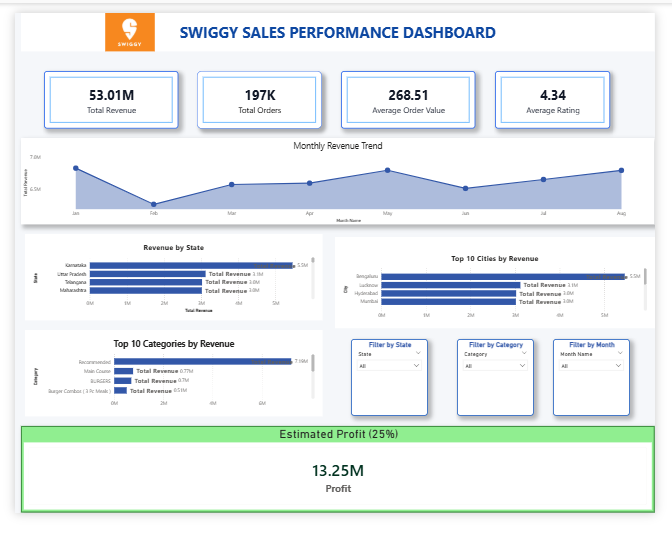

Layout of this report page (visuals, bound fields, positions):
{"tool":"powerbi","page":{"name":"Executive Dashboard","canvas":[1600,1250],"ordinal":0},"visuals":[{"type":"cardVisual","fields":{"Data":["swiggy_data.Total Orders"]},"box":[456,144,312,144],"z":0},{"type":"lineChart","title":"Monthly Revenue Trend","fields":{"Category":["swiggy_data.Month Name"],"Y":["swiggy_data.Total Revenue"]},"box":[16,312,1584,216],"z":1000},{"type":"clusteredBarChart","title":"Revenue by State","fields":{"Category":["swiggy_data.State"],"Y":["swiggy_data.Total Revenue"]},"box":[24,552,744,216],"z":2000},{"type":"clusteredBarChart","title":"Top 10 Cities by Revenue","fields":{"Category":["swiggy_data.City"],"Y":["swiggy_data.Total Revenue"]},"box":[800,560,800,208],"z":3000},{"type":"slicer","title":"Filter by State","fields":{"Values":["swiggy_data.State"]},"box":[840,816,192,192],"z":4000},{"type":"slicer","title":"Filter by Category","fields":{"Values":["swiggy_data.Category"]},"box":[1104,816,192,192],"z":5000},{"type":"slicer","title":"Filter by Month","fields":{"Values":["swiggy_data.Month Name"]},"box":[1344,816,192,192],"z":6000},{"type":"textbox","box":[16,0,1584,96],"z":7000},{"type":"clusteredBarChart","title":"Top 10 Categories by Revenue","fields":{"Category":["swiggy_data.Category"],"Y":["swiggy_data.Total Revenue"]},"box":[24,792,744,216],"z":8000},{"type":"cardVisual","fields":{"Data":["swiggy_data.Total Revenue"]},"box":[72,144,336,144],"z":9000},{"type":"image","box":[168,0,240,96],"z":10000},{"type":"cardVisual","title":"Estimated Profit (25%)","fields":{"Data":["swiggy_data.Profit"]},"box":[16,1032,1584,216],"z":12000},{"type":"cardVisual","fields":{"Data":["swiggy_data.Average Order Value"]},"box":[816,144,336,144],"z":13000},{"type":"cardVisual","fields":{"Data":["swiggy_data.Average Rating"]},"box":[1200,144,288,144],"z":14000},{"type":"clusteredBarChart","title":"Top 10 Cities by Revenue","fields":{"Category":["swiggy_data.City"],"Y":["swiggy_data.Total Revenue"]},"box":[800,570,800,208],"z":14001},{"type":"clusteredBarChart","title":"Top 10 Cities by Revenue","fields":{"Category":["swiggy_data.City"],"Y":["swiggy_data.Total Revenue"]},"box":[800,580,800,208],"z":14003}]}

Visuals, with their boxes on the page's 1600x1250 design canvas (x1, y1, x2, y2). These are canvas units, not pixel positions in the 672x546 screenshot, which may show the page scaled, cropped or inside an application window:
cardVisual - swiggy_data.Total Orders: crop(456, 144, 768, 288)
"Monthly Revenue Trend" lineChart: crop(16, 312, 1600, 528)
"Revenue by State" clusteredBarChart: crop(24, 552, 768, 768)
"Top 10 Cities by Revenue" clusteredBarChart: crop(800, 560, 1600, 768)
"Filter by State" slicer: crop(840, 816, 1032, 1008)
"Filter by Category" slicer: crop(1104, 816, 1296, 1008)
"Filter by Month" slicer: crop(1344, 816, 1536, 1008)
textbox: crop(16, 0, 1600, 96)
"Top 10 Categories by Revenue" clusteredBarChart: crop(24, 792, 768, 1008)
cardVisual - swiggy_data.Total Revenue: crop(72, 144, 408, 288)
image: crop(168, 0, 408, 96)
"Estimated Profit (25%)" cardVisual: crop(16, 1032, 1600, 1248)
cardVisual - swiggy_data.Average Order Value: crop(816, 144, 1152, 288)
cardVisual - swiggy_data.Average Rating: crop(1200, 144, 1488, 288)
"Top 10 Cities by Revenue" clusteredBarChart: crop(800, 570, 1600, 778)
"Top 10 Cities by Revenue" clusteredBarChart: crop(800, 580, 1600, 788)
